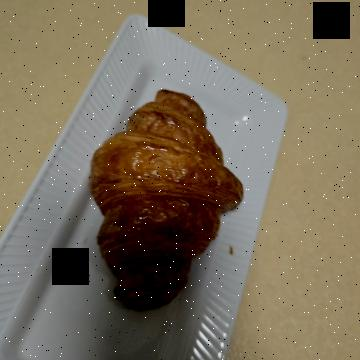croissant: (83, 103, 326, 281)
